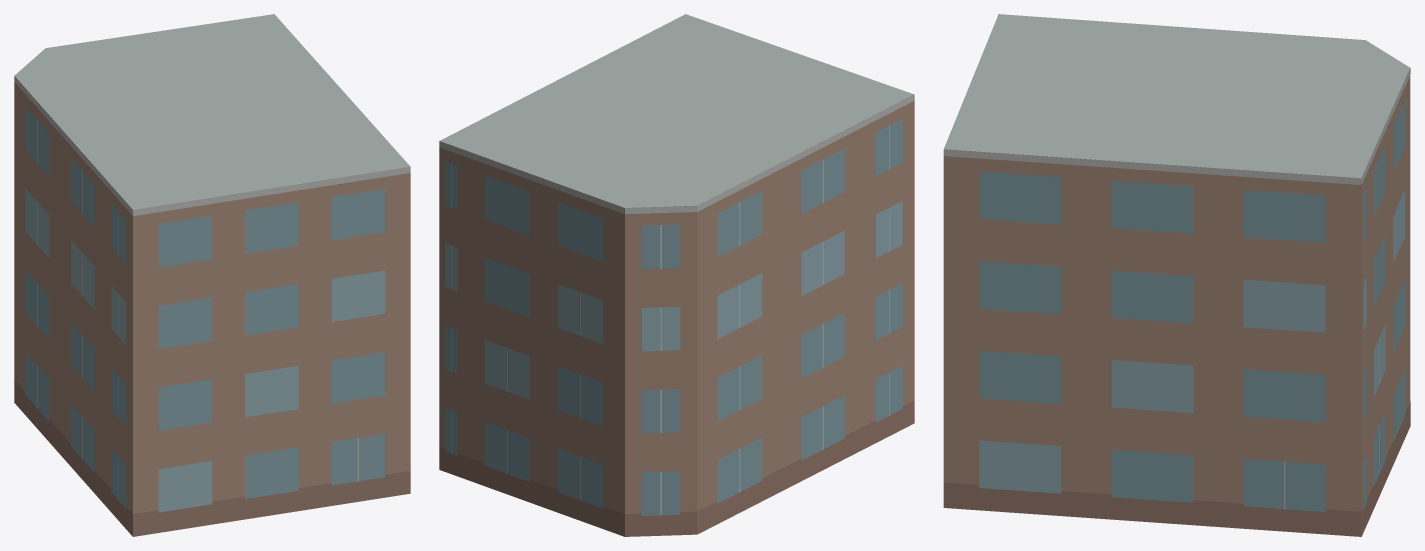
Rendered from survey-upis-32624325.glb.
3 renders of one model, left to right at view 1: azimuth 30°, elevation 25°; view 2: azimuth 150°, elevation 25°; view 3: azimuth 270°, elevation 25°, orthographic. The views are drawn at different scales.
Visible parts, largest first — view 1: survey-upis-32624325.tmp; view 2: survey-upis-32624325.tmp; view 3: survey-upis-32624325.tmp.
Boxes of the visible parts, x1,y1,x2,y2 form: survey-upis-32624325.tmp: (14, 14, 410, 536); survey-upis-32624325.tmp: (439, 14, 914, 536); survey-upis-32624325.tmp: (943, 14, 1410, 536).
Bounding box in the file's own units: 12.58 × 12.8 × 15.11.
